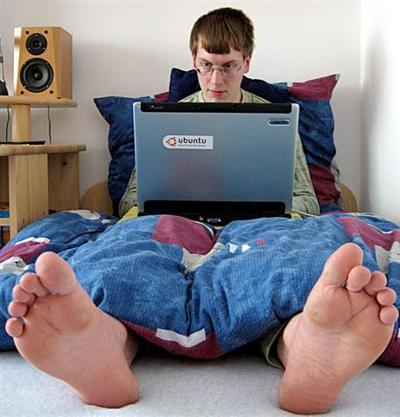person: (7, 6, 398, 415)
